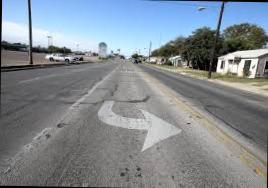faded_road_lines: (96, 98, 181, 160), (0, 120, 56, 176), (1, 65, 78, 92), (64, 84, 97, 113), (94, 60, 123, 86)
